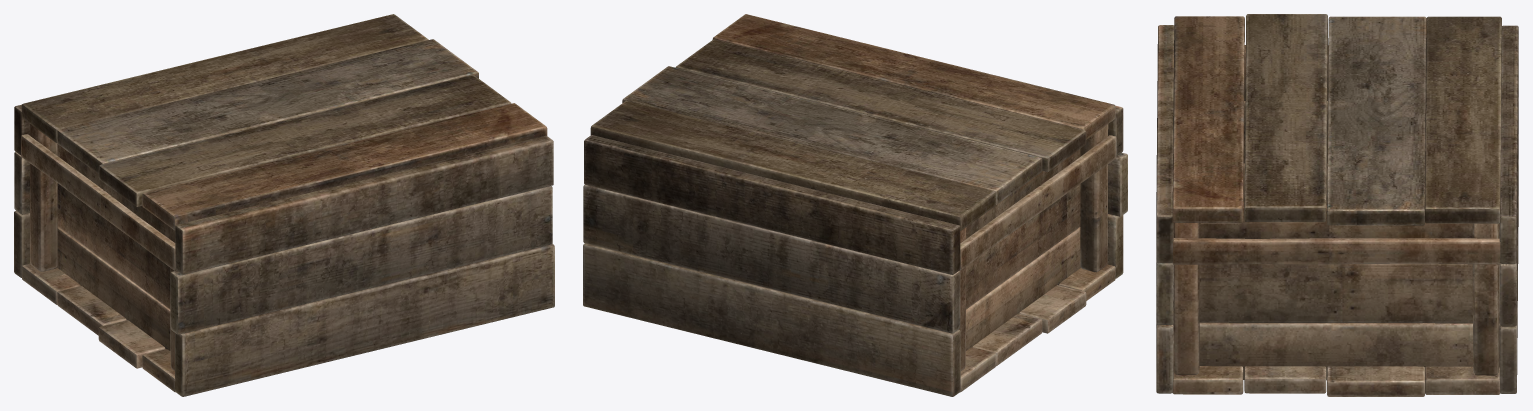
Rendered from xi_dep_crate.gltf.
3 renders of one model, left to right at view 1: azimuth 30°, elevation 25°; view 2: azimuth 150°, elevation 25°; view 3: azimuth 270°, elevation 25°, orthographic. The views are drawn at different scales.
Parts seen in each view (by area): view 1: xi_dep_crate; view 2: xi_dep_crate; view 3: xi_dep_crate.
Part boxes in pixels (x1,y1,x2,y2): xi_dep_crate: (14, 14, 554, 396); xi_dep_crate: (583, 14, 1127, 396); xi_dep_crate: (1156, 14, 1518, 396).
Bounding box in the file's own units: 0.8739 × 0.386 × 0.6777.
Materials: 1 (1 with a texture image).
